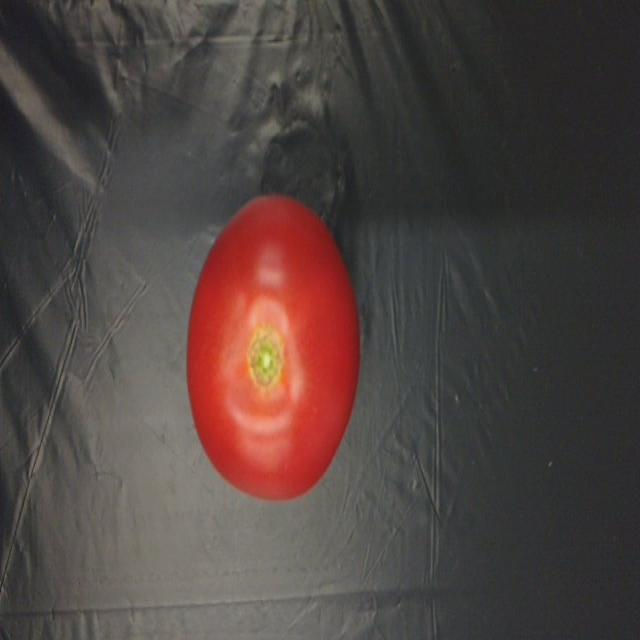kirmizi: (181, 177, 363, 514)
